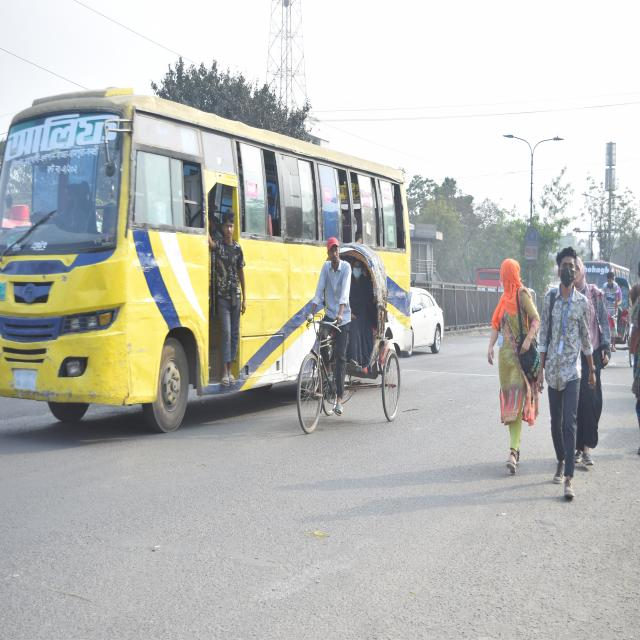bus: (0, 84, 412, 432)
car: (409, 279, 453, 370)
